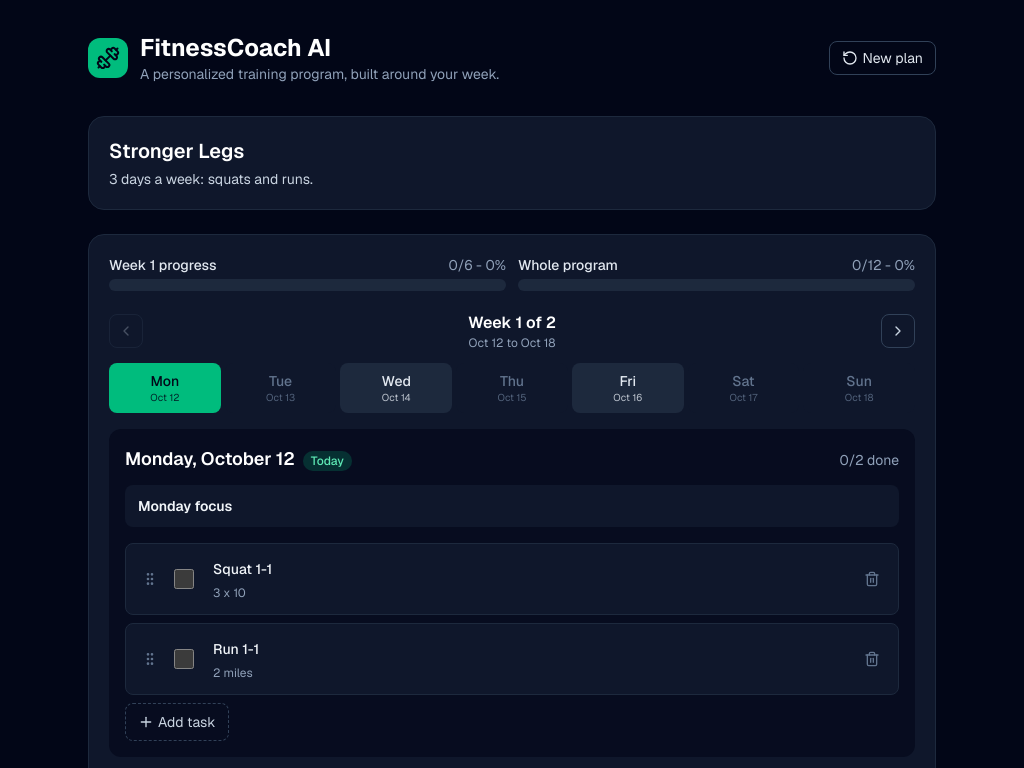
Test: dashboard: ticking tasks updates progress › ticking a task updates the day count, both progress bars and the saved plan
Expected: the heading "Stronger Legs" is shown, [109,138,244,164]
Click the checkbox named "Mark complete: Squat 1-1".
click(184, 579)  # box [174,569,194,589]
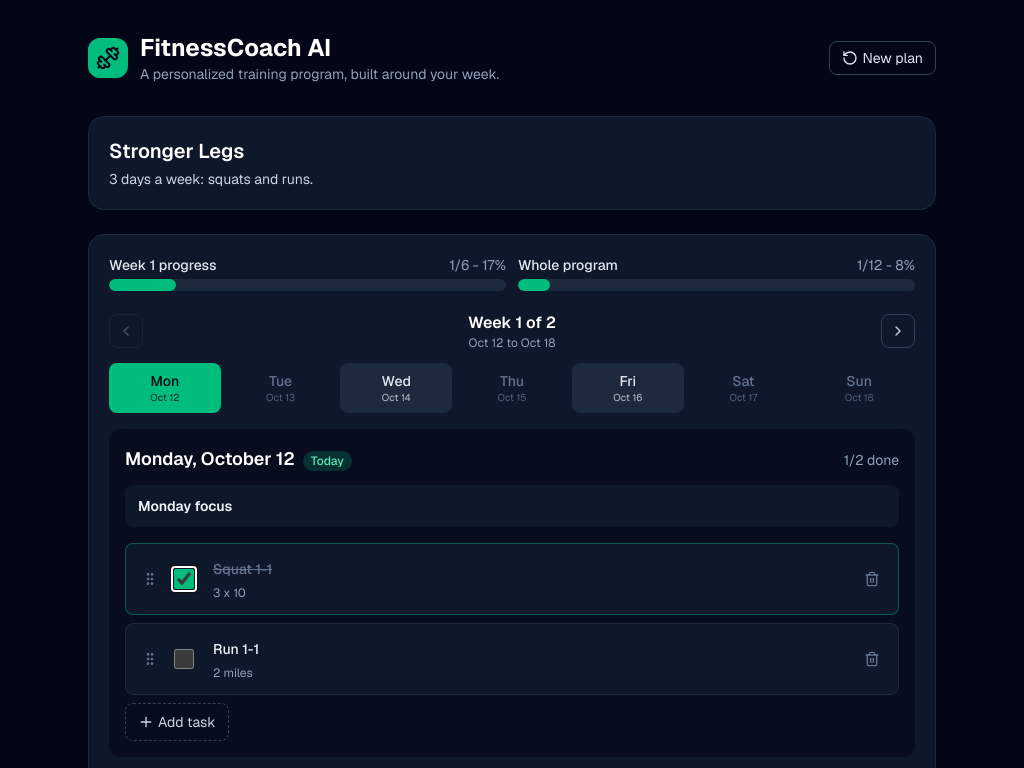
Expected: the checkbox named "Mark complete: Squat 1-1" is checked, [174,569,194,589]
Expected: the text "1/2 done" is shown, [844,450,899,470]
Expected: the text "1/6 - 17%" is shown, [449,255,506,275]
